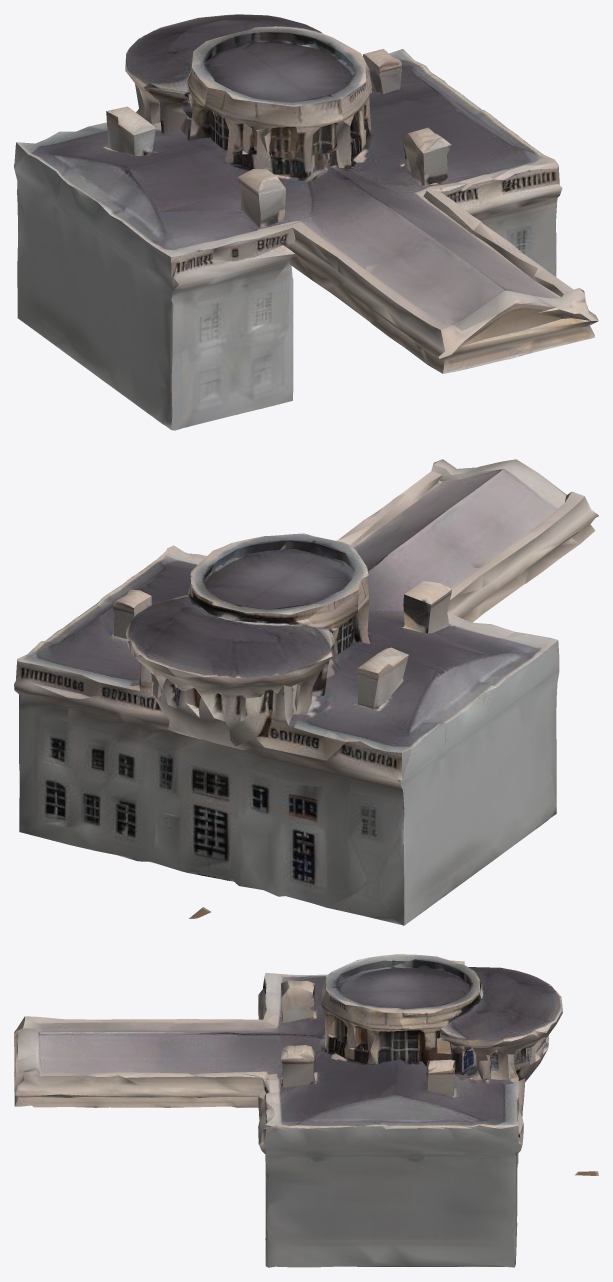
File: white-house.glb
The picture shows the model from 3 angles, top to bottom: view 1: azimuth 30°, elevation 25°; view 2: azimuth 150°, elevation 25°; view 3: azimuth 270°, elevation 25°; orthographic projection. The views are drawn at different scales.
Parts seen in each view (by area): view 1: logan-textured.obj; view 2: logan-textured.obj; view 3: logan-textured.obj.
Part boxes in pixels (left/top/right/bottom): logan-textured.obj: left=14, top=14, right=598, bottom=430; logan-textured.obj: left=14, top=459, right=598, bottom=925; logan-textured.obj: left=14, top=954, right=598, bottom=1267.
Bounding box in the file's own units: 0.6228 × 0.395 × 1.
Materials: 1 (1 with a texture image).
